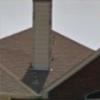chimneys: (32, 0, 52, 71)
